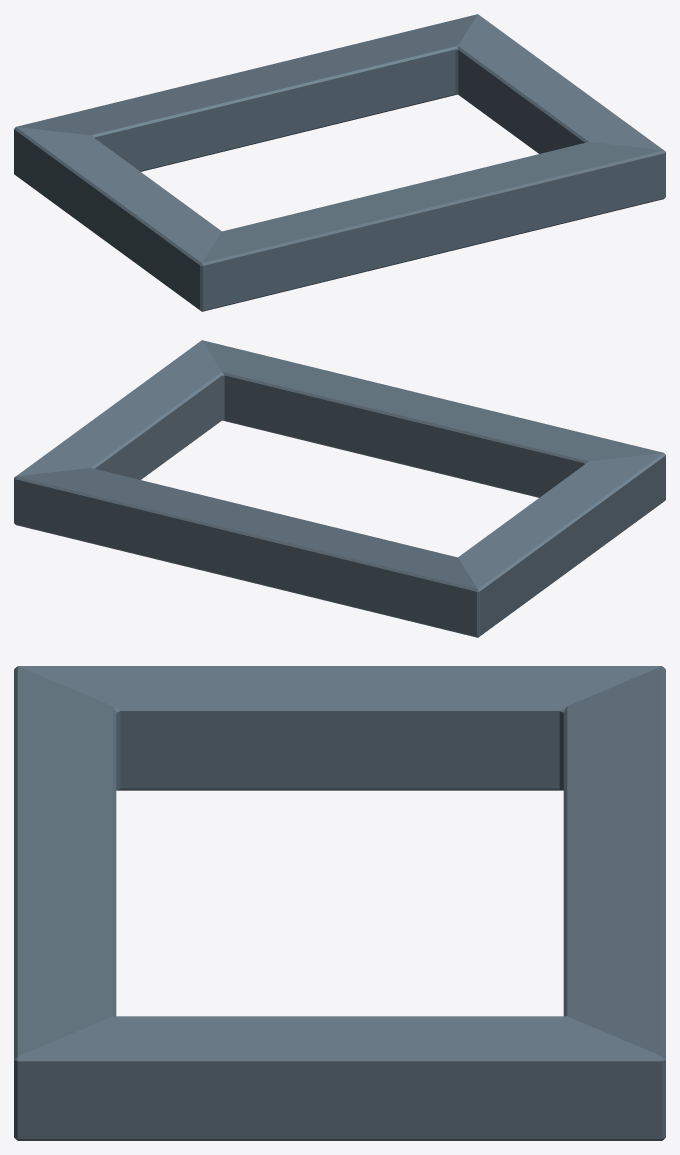
Rendered from P33_Rect_Frame.fbx.
3 renders of one model, top to bottom at view 1: azimuth 30°, elevation 25°; view 2: azimuth 150°, elevation 25°; view 3: azimuth 270°, elevation 25°, orthographic. The views are drawn at different scales.
Parts seen in each view (by area): view 1: P33_Rect_Frame; view 2: P33_Rect_Frame; view 3: P33_Rect_Frame.
Part boxes in pixels (bbox=[...]): P33_Rect_Frame: bbox=[14, 14, 665, 311]; P33_Rect_Frame: bbox=[14, 340, 665, 637]; P33_Rect_Frame: bbox=[14, 666, 665, 1140].
Size of the model in its own units: 2 by 0.2 by 1.4.
Materials: 1 (1 with a texture image).
